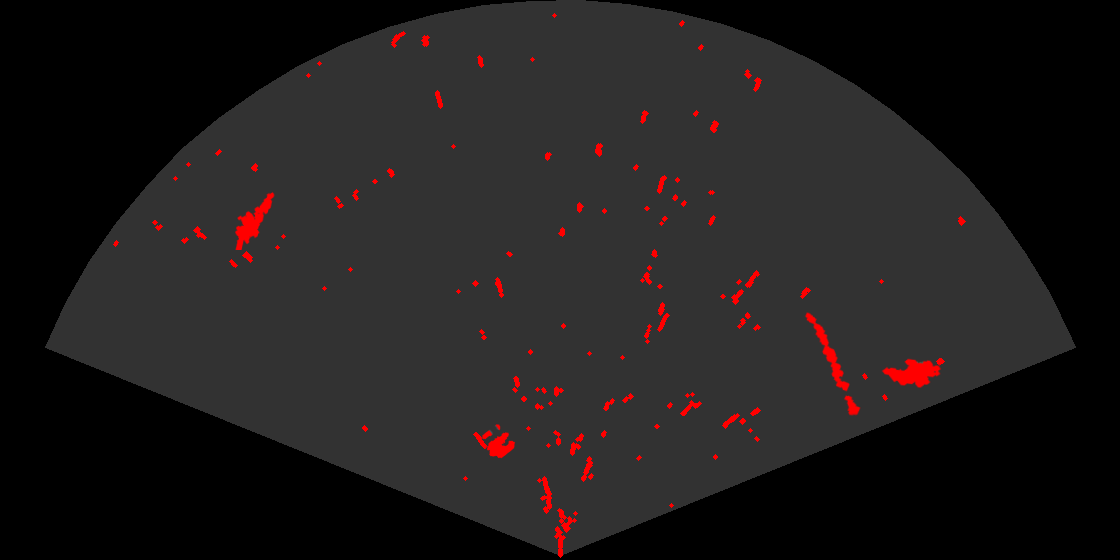AUV: (880, 357, 943, 390)
ball: (481, 423, 517, 460)
chain: (803, 311, 862, 418)
frogman: (234, 191, 276, 250)
